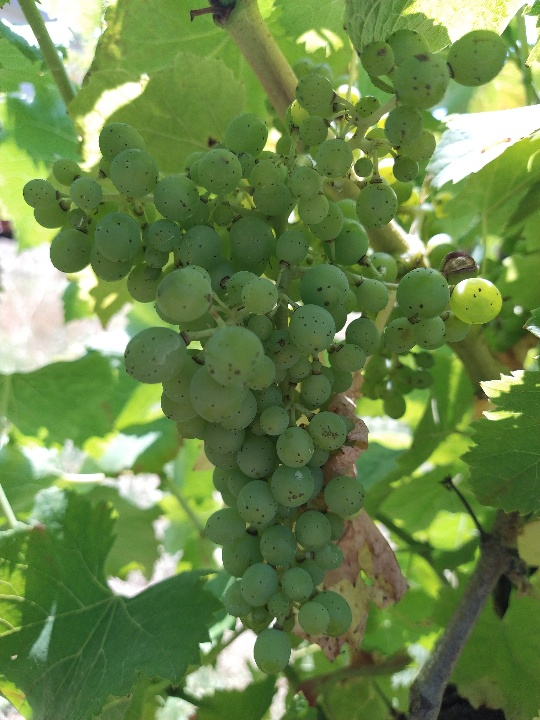grape: (20, 29, 507, 678)
